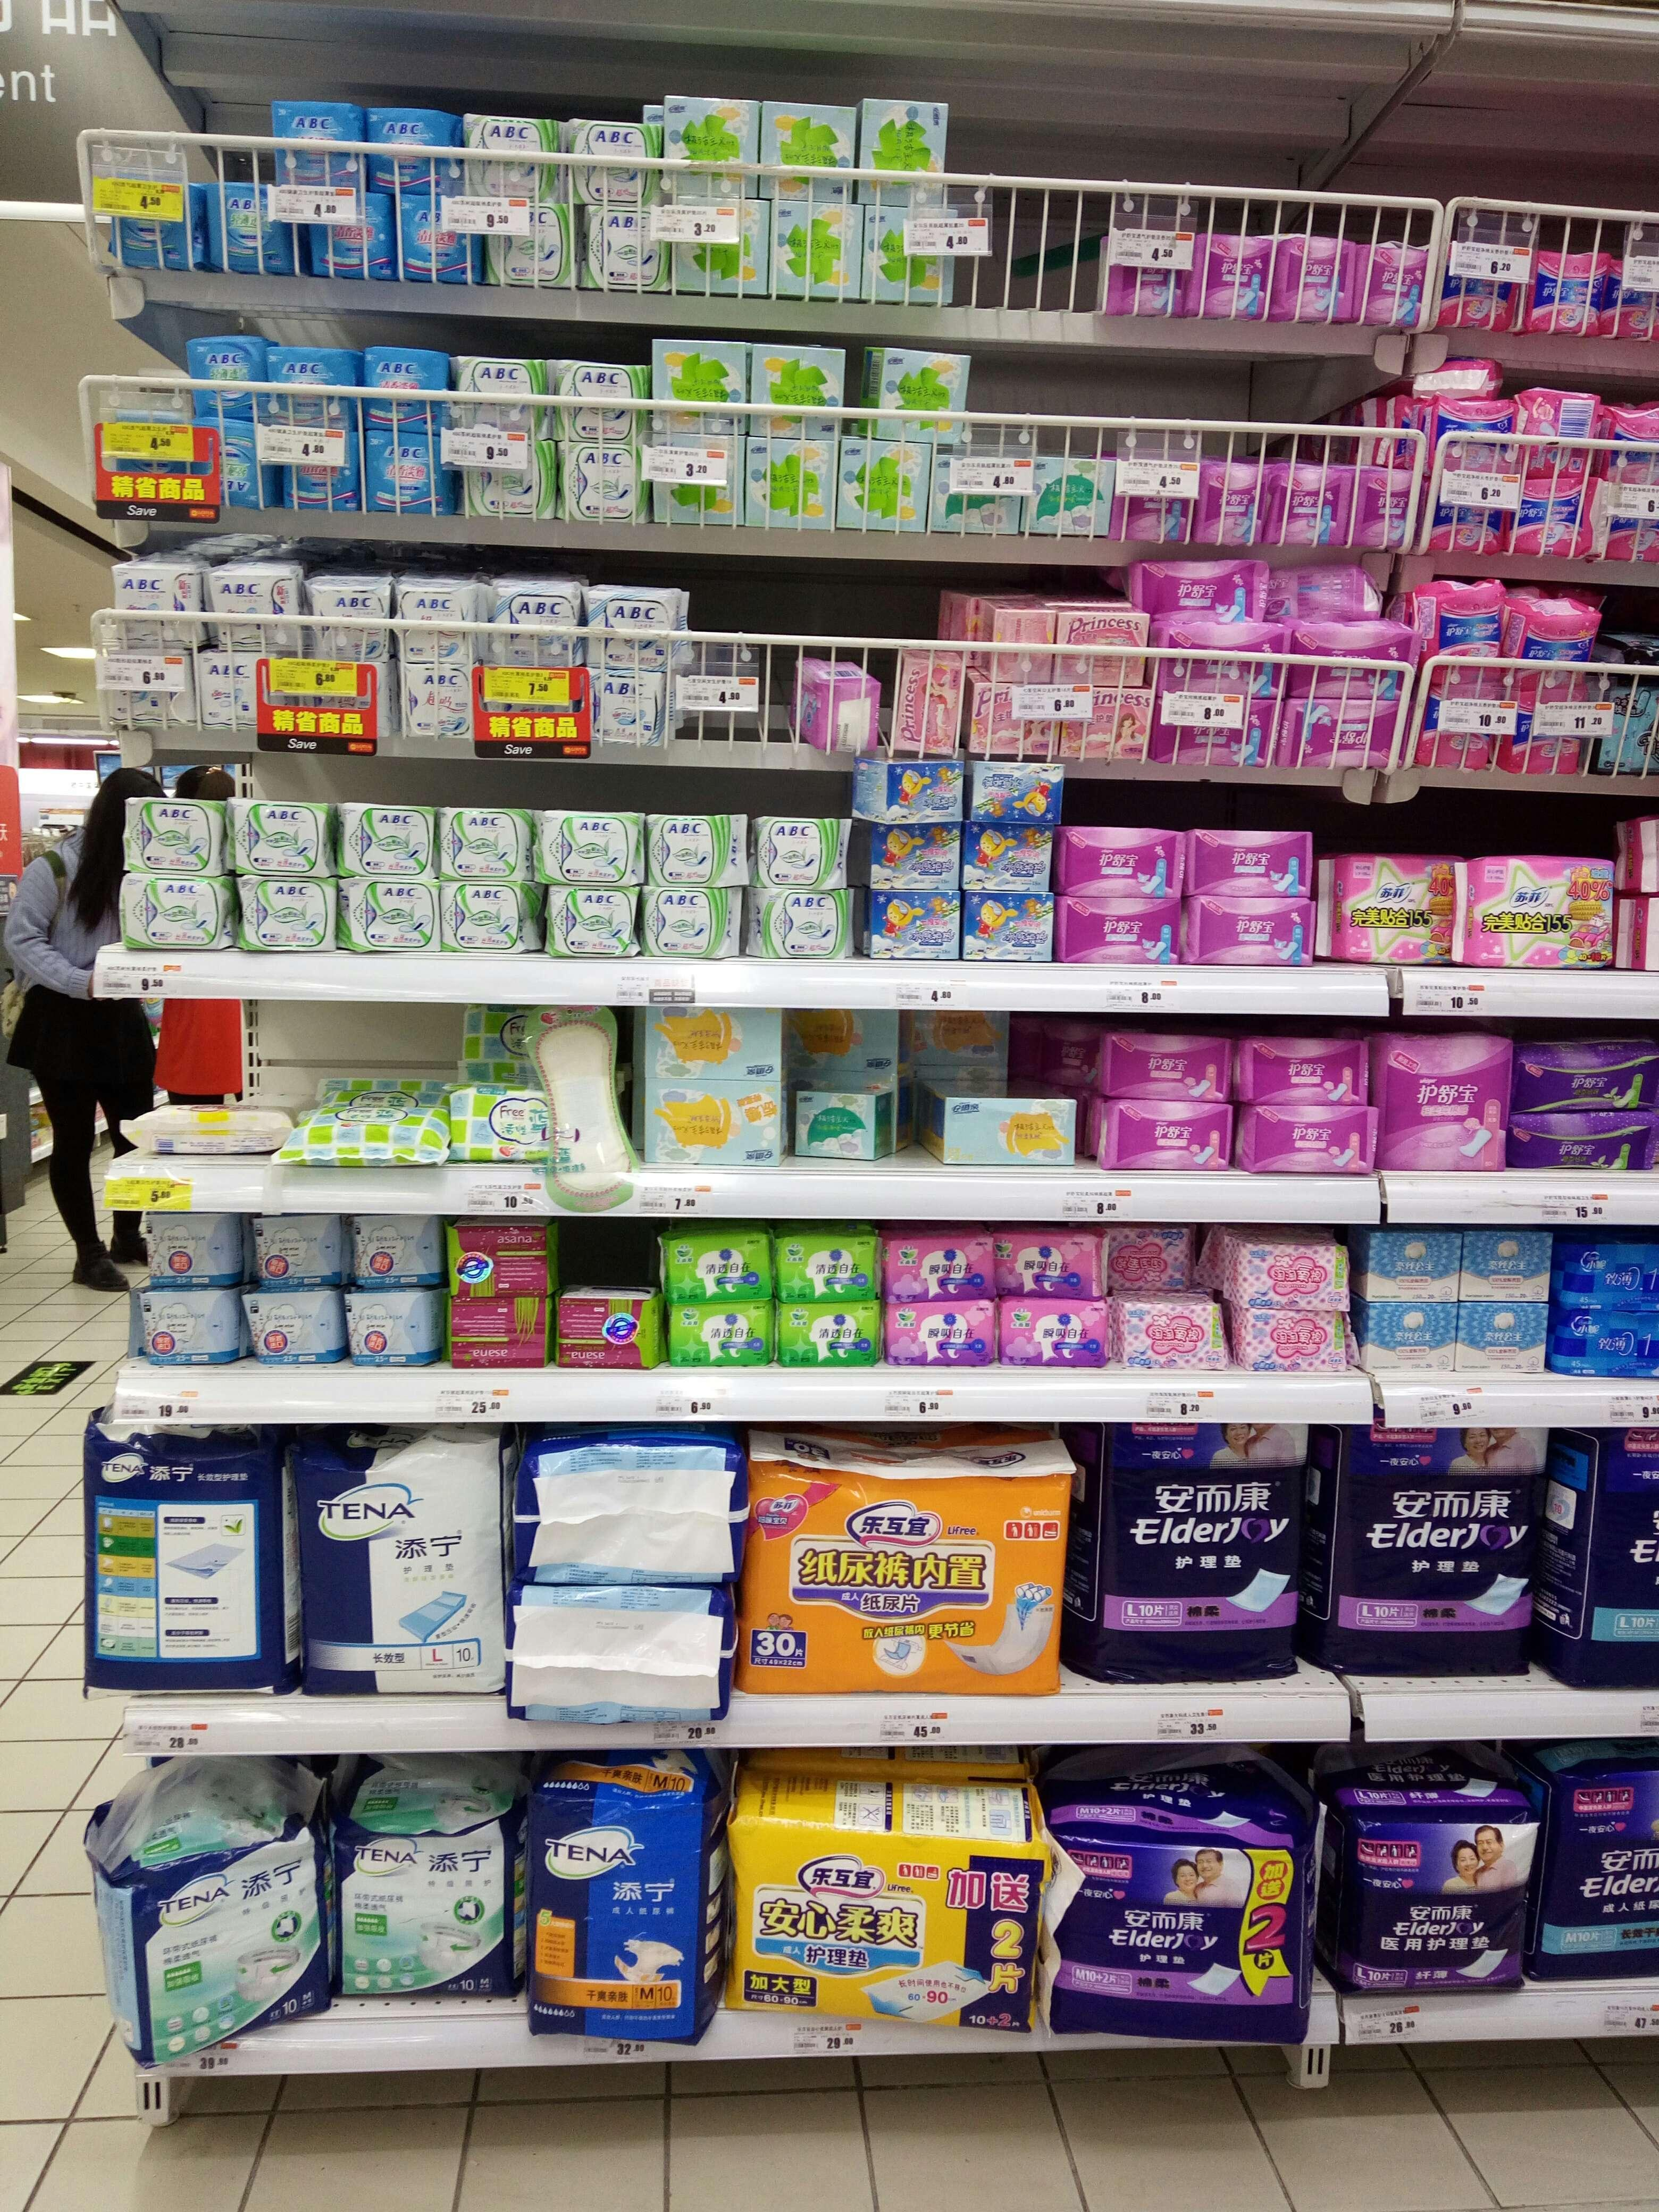misalignment: (528, 1430, 744, 1740), (87, 1439, 279, 1695), (784, 1014, 903, 1165), (929, 1080, 1089, 1170), (296, 1092, 451, 1165), (788, 646, 878, 754), (138, 1092, 293, 1153), (1267, 561, 1380, 625), (897, 648, 958, 758), (1424, 354, 1507, 406)
